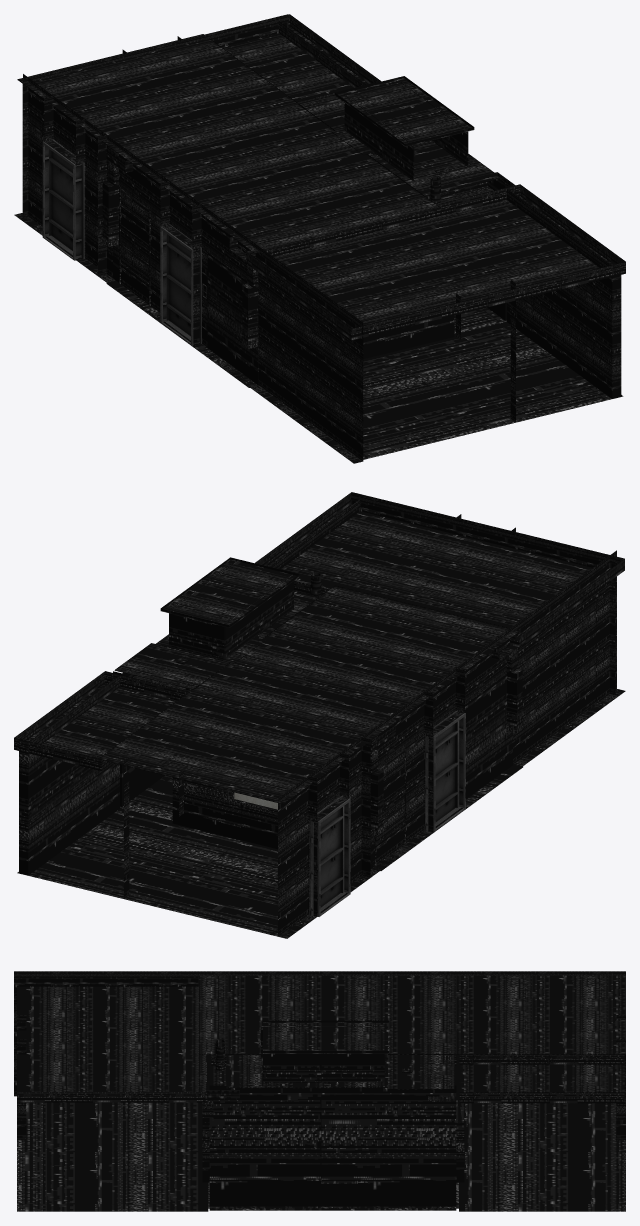
Rendered from room2gw_b_opt.obj.
3 views of the same model, one above another, from view 1: azimuth 30°, elevation 25°; view 2: azimuth 150°, elevation 25°; view 3: azimuth 270°, elevation 25° (orthographic). The views are drawn at different scales.
Size of the model in its own units: 967 by 593 by 2058.
